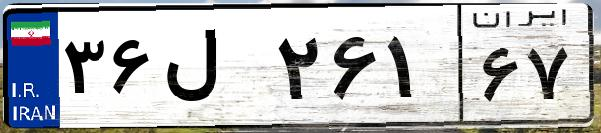1: (385, 28, 445, 110)
2: (270, 28, 330, 110)
3: (57, 26, 110, 100)
6: (330, 28, 385, 110), (475, 38, 525, 113), (110, 28, 158, 98)
7: (525, 38, 570, 115)
ل: (158, 20, 270, 120)
